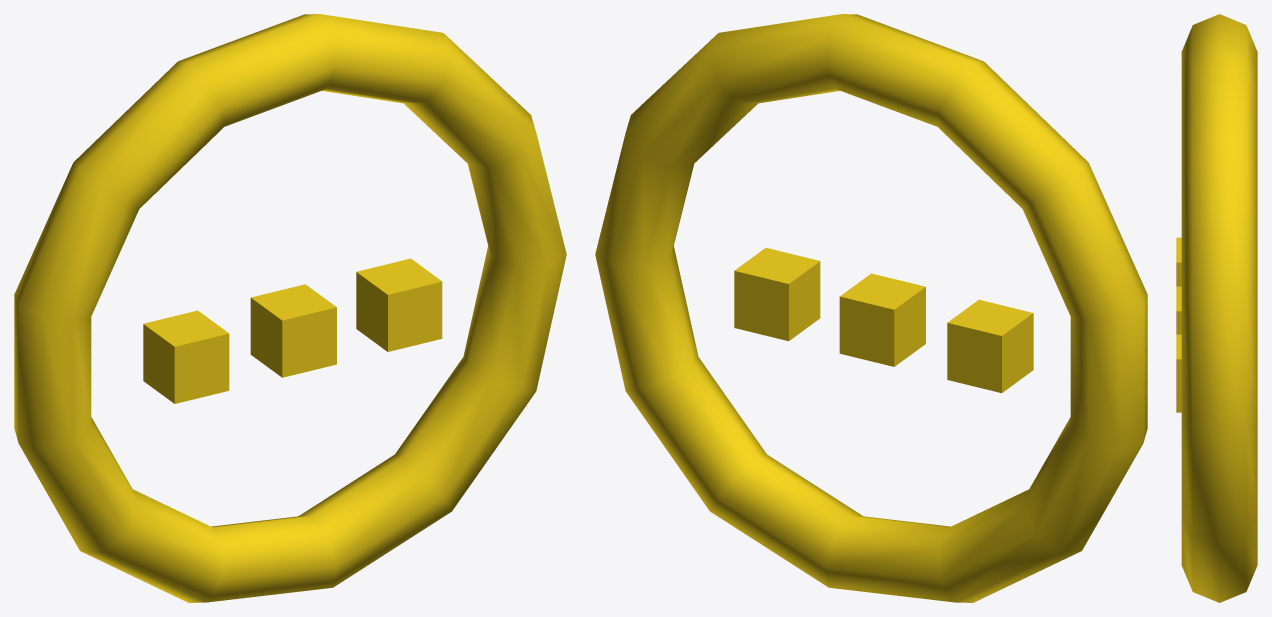
File: notify-extra.fbx
3 views of the same model, side by side, from view 1: azimuth 30°, elevation 25°; view 2: azimuth 150°, elevation 25°; view 3: azimuth 270°, elevation 25° (orthographic). The views are drawn at different scales.
Visible parts, largest first — view 1: notify-extra; view 2: notify-extra; view 3: notify-extra.
Boxes of the visible parts, x1,y1,x2,y2 form: notify-extra: [14, 14, 566, 602]; notify-extra: [595, 14, 1147, 602]; notify-extra: [1176, 14, 1257, 602].
Size of the model in its own units: 92.63 by 93.31 by 12.83.
